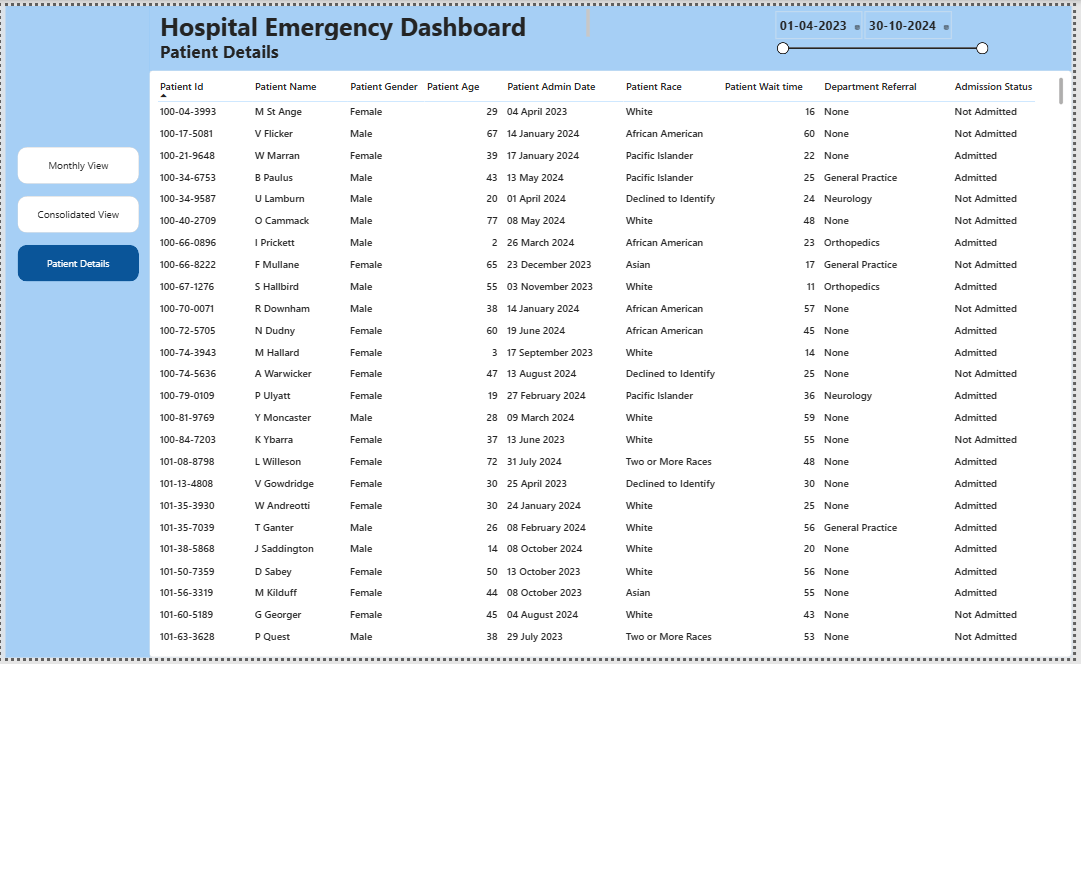

What the dashboard file says about the page in this screenshot:
{"tool":"powerbi","page":{"name":"Patient  Details","canvas":[2300,1400],"ordinal":2},"visuals":[{"type":"shape","box":[10.2,0,310,1399],"z":0},{"type":"shape","box":[319.2,0,1979.7,140],"z":1000},{"type":"textbox","box":[343,6.8,923.6,64.5],"z":2000},{"type":"textbox","box":[341.9,71,400,67.7],"z":3000},{"type":"slicer","fields":{"Values":["DateTable.Date"]},"box":[1654.8,6.5,467.7,132.3],"z":6000},{"type":"tableEx","fields":{"Values":["Hospital ER_Data.Patient Id","Hospital ER_Data.Full Name ","Hospital ER_Data.Patient Gender","Sum(Hospital ER_Data.Patient Age)","Hospital ER_Data.Patient Admin Date","Hospital ER_Data.Patient Race","Sum(Hospital ER_Data.Patient Waittime)","Hospital ER_Data.Department Referral","Hospital ER_Data.Admission Status"]},"box":[320,140,1979,1259],"z":6001},{"type":"pageNavigator","box":[35.5,303.2,261.3,290.3],"z":6002}]}

Visuals, with their boxes on the page's 2300x1400 design canvas (x1, y1, x2, y2). These are canvas units, not pixel positions in the 1081x896 screenshot, which may show the page scaled, cropped or inside an application window:
shape: {"left": 10, "top": 0, "right": 320, "bottom": 1399}
shape: {"left": 319, "top": 0, "right": 2299, "bottom": 140}
textbox: {"left": 343, "top": 7, "right": 1267, "bottom": 71}
textbox: {"left": 342, "top": 71, "right": 742, "bottom": 139}
slicer - DateTable.Date: {"left": 1655, "top": 6, "right": 2122, "bottom": 139}
tableEx - Hospital ER_Data.Patient Id x Hospital ER_Data.Full Name : {"left": 320, "top": 140, "right": 2299, "bottom": 1399}
pageNavigator: {"left": 36, "top": 303, "right": 297, "bottom": 594}
